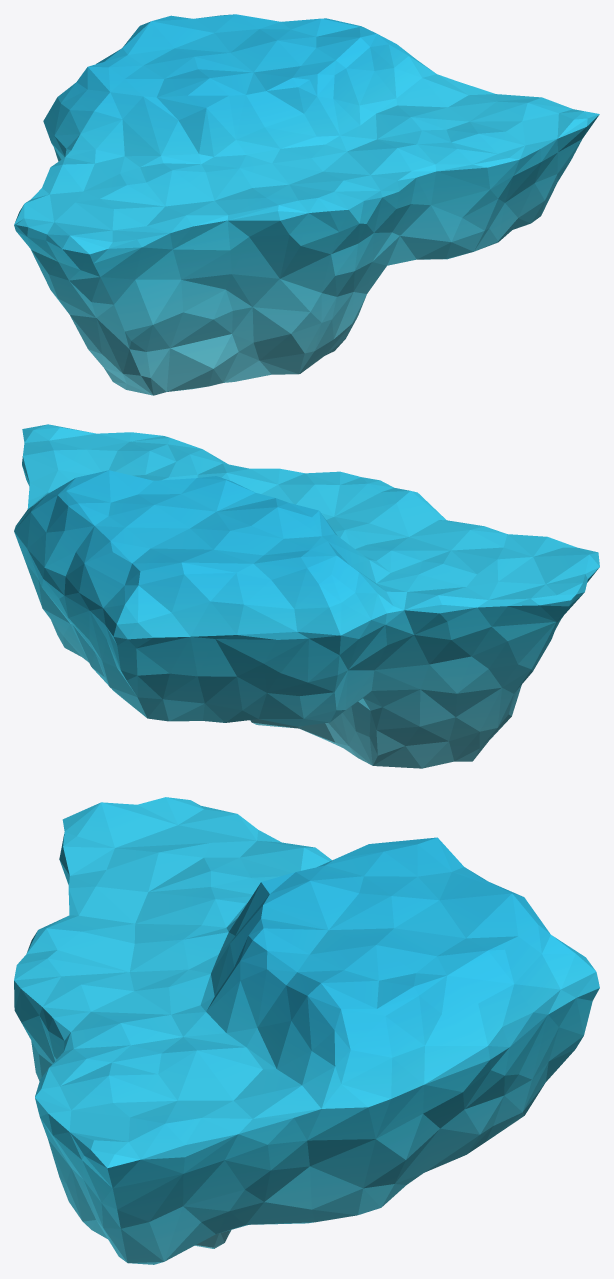
The model's file is ice_013.fbx.
The picture shows the model from 3 angles, top to bottom: view 1: azimuth 30°, elevation 25°; view 2: azimuth 150°, elevation 25°; view 3: azimuth 270°, elevation 25°; orthographic projection. The views are drawn at different scales.
Visible parts, largest first — view 1: ice_013; view 2: ice_013; view 3: ice_013.
Part boxes in pixels (<box>): ice_013: <box>14,14,599,395</box>; ice_013: <box>14,424,599,768</box>; ice_013: <box>14,797,599,1264</box>.
Bounding box in the file's own units: 570 × 386 × 243.
